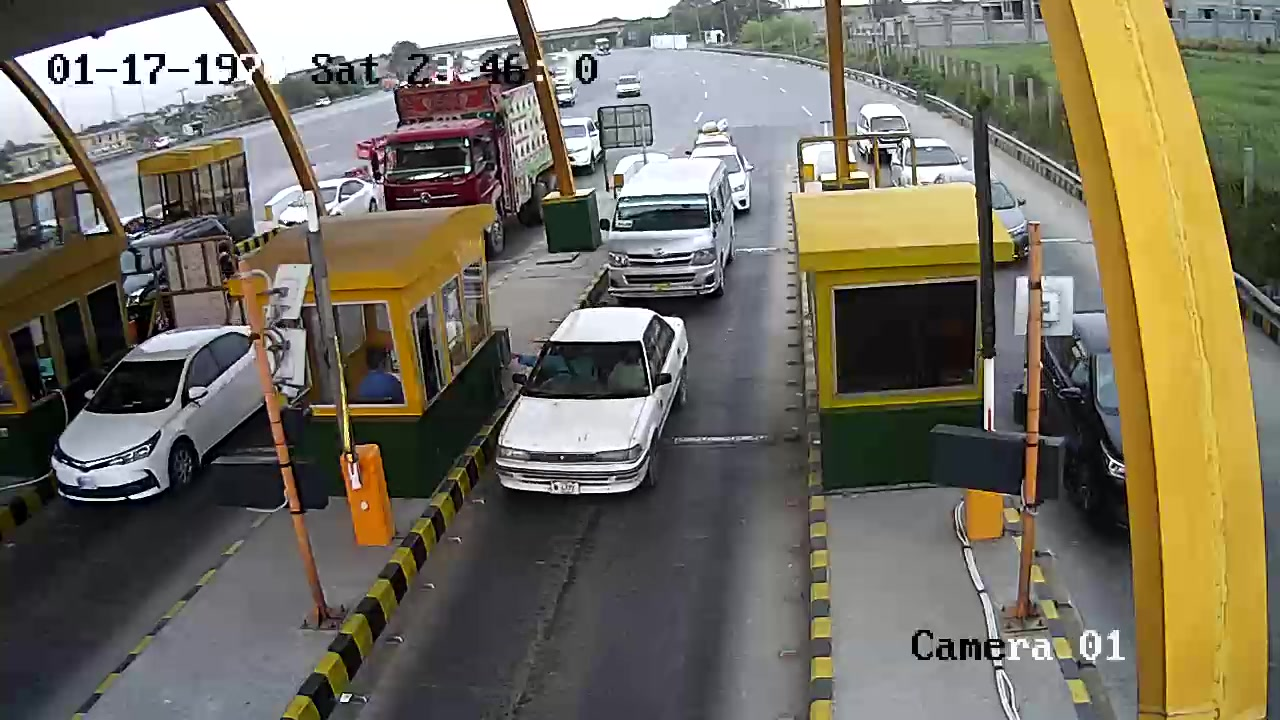F1: (477, 303, 722, 515)
